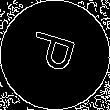P_E: (25, 30, 85, 80)
